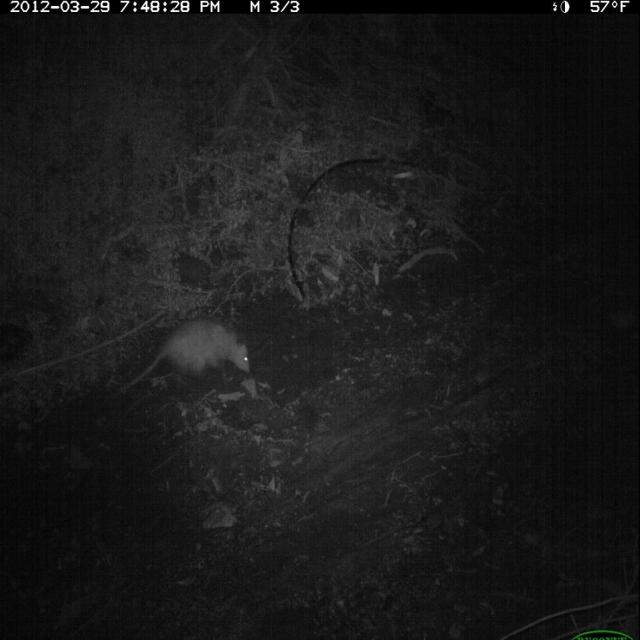opossum: (113, 309, 258, 401)
